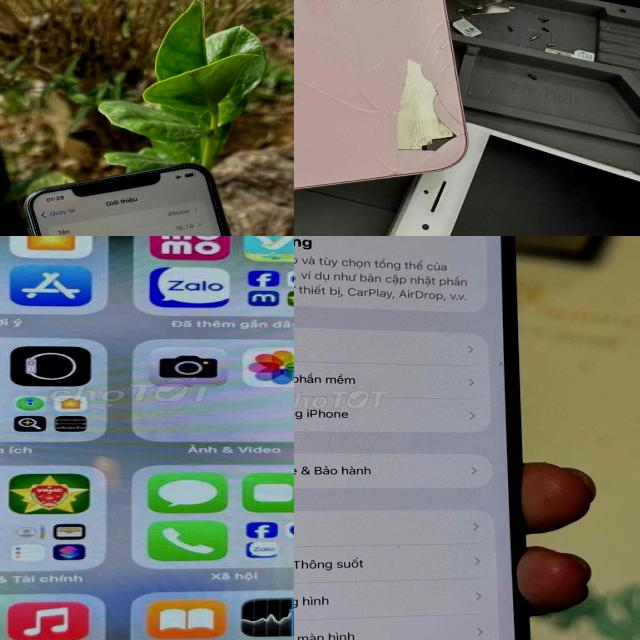gen_12_13: (294, 236, 535, 640)
gen_x_xs: (0, 236, 294, 640), (294, 0, 465, 189), (12, 158, 294, 236)
